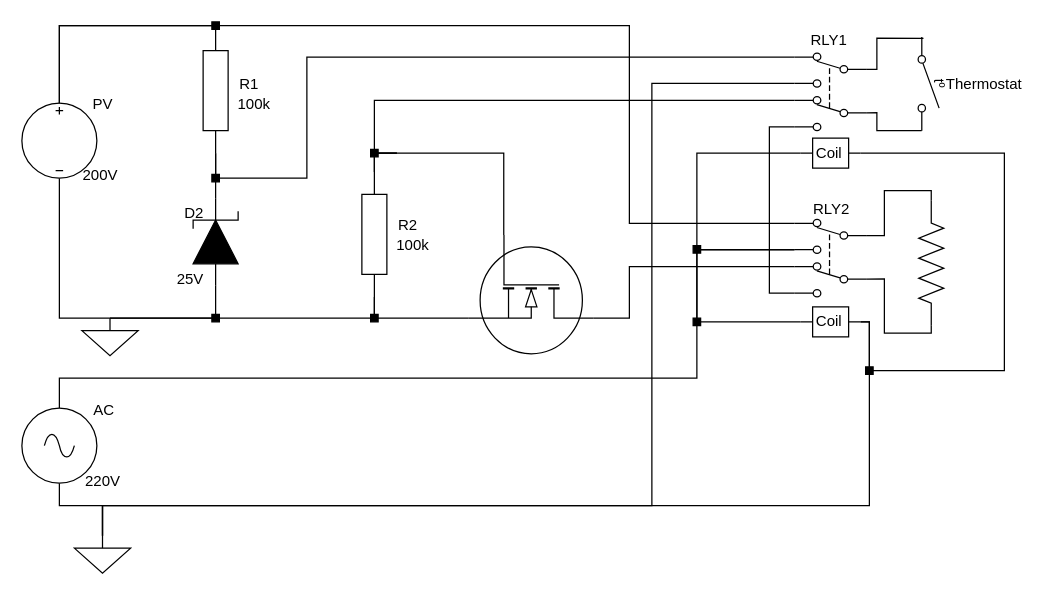
The diagram is 1044 pixels wide and 595 high, and some of its shapes have lost their labels. The centre of each missing label's shape, as x and y in pixels:
"Load" belongs at [931,262].
"M1" belongs at [531,294].
